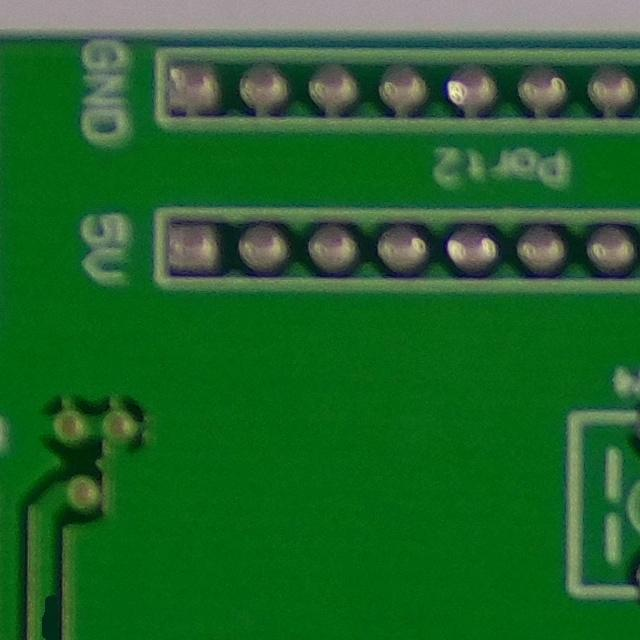mouse_bite: (18, 584, 75, 640)
